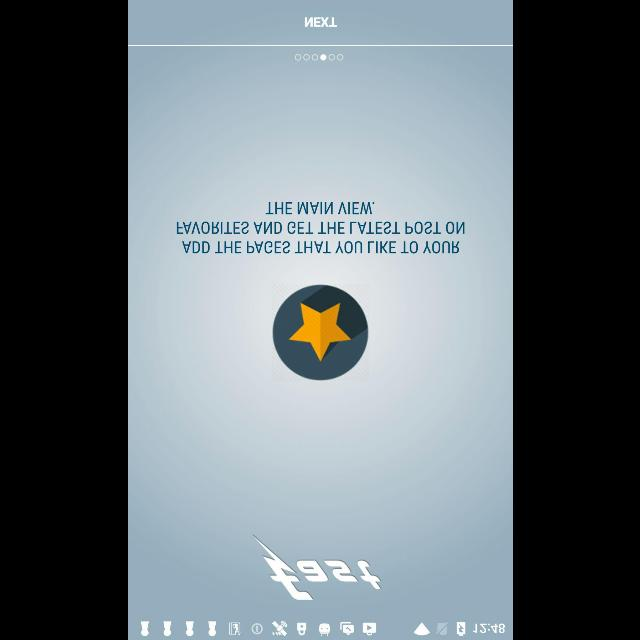image: (271, 284, 367, 382), (250, 536, 380, 600)
pageindicator: (294, 53, 344, 61)
text: (176, 202, 464, 254), (303, 16, 337, 28)
uppertaskbar: (128, 619, 512, 639)
